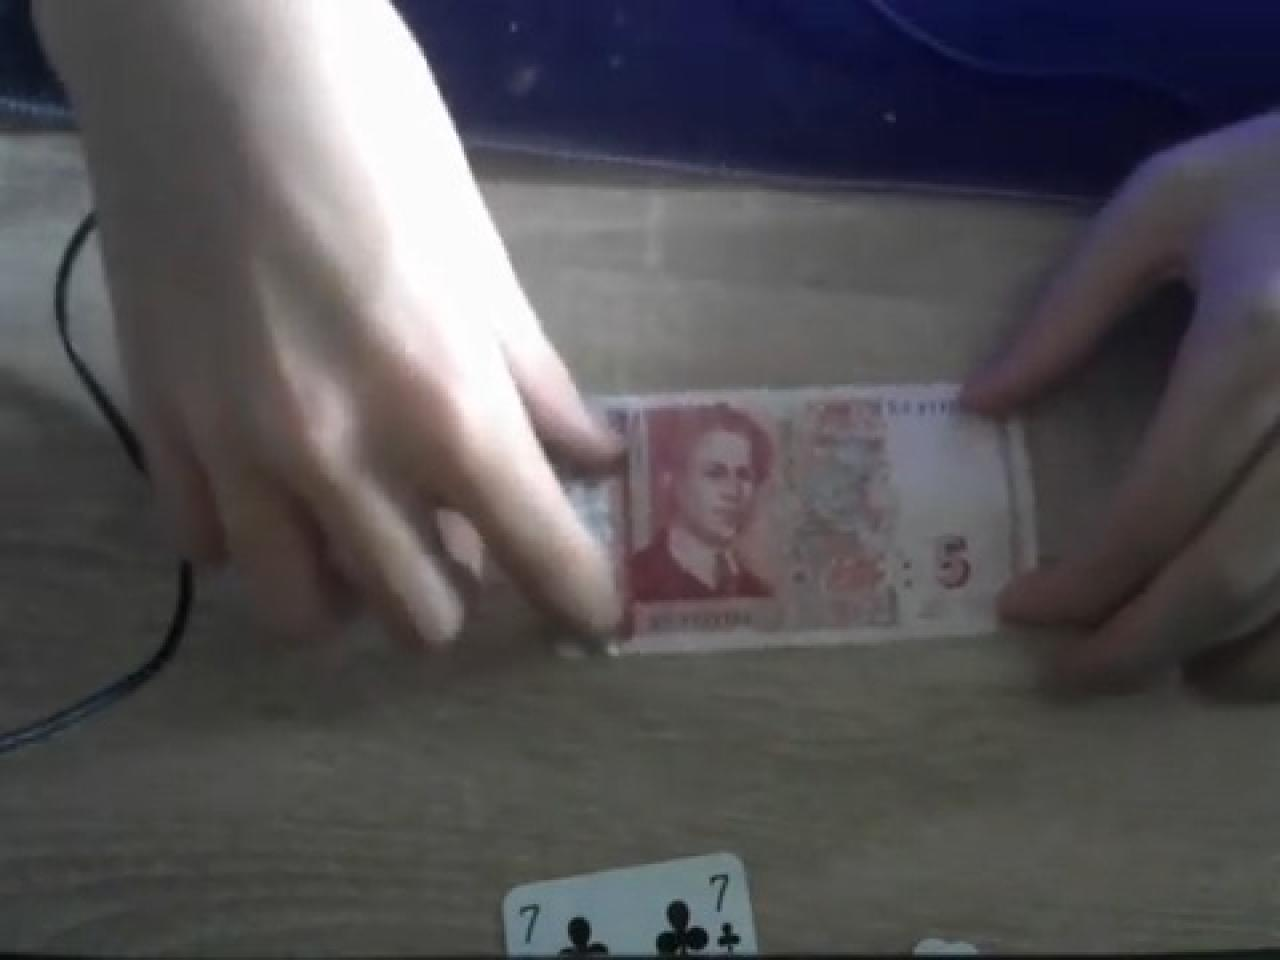5leva: (627, 400, 979, 642)
